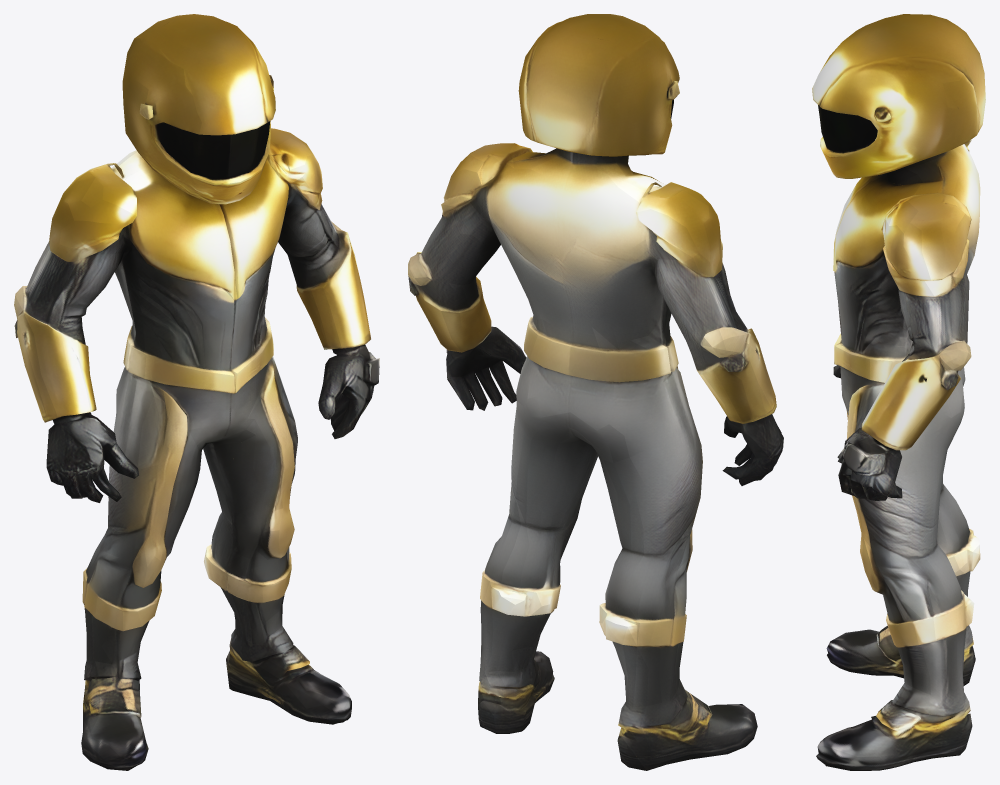
The picture shows the model from 3 angles, left to right: view 1: azimuth 30°, elevation 25°; view 2: azimuth 150°, elevation 25°; view 3: azimuth 270°, elevation 25°; orthographic projection. The views are drawn at different scales.
Parts seen in each view (by area): view 1: model; view 2: model; view 3: model.
Boxes of the visible parts, x1,y1,x2,y2 form: model: (14, 14, 379, 770); model: (408, 14, 783, 770); model: (812, 14, 985, 770).
Size of the model in its own units: 0.9502 by 1.89 by 0.4321.
1 material, 1 textured.
